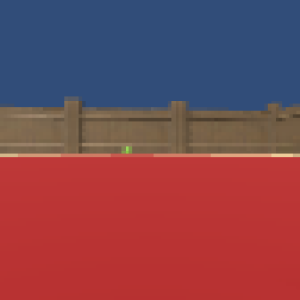deathZone: (1, 156, 299, 299)
goodGoal: (120, 145, 136, 156)
